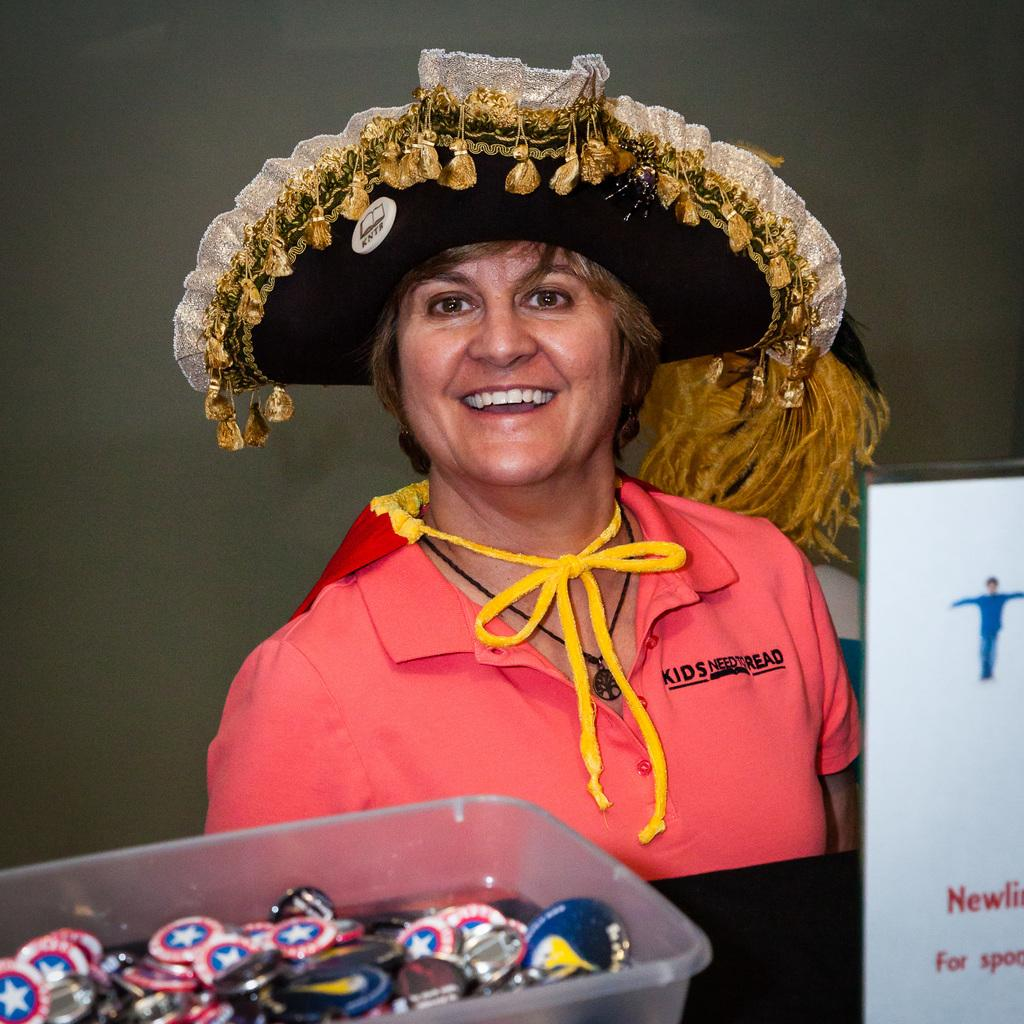Hat: (168, 49, 845, 452)
